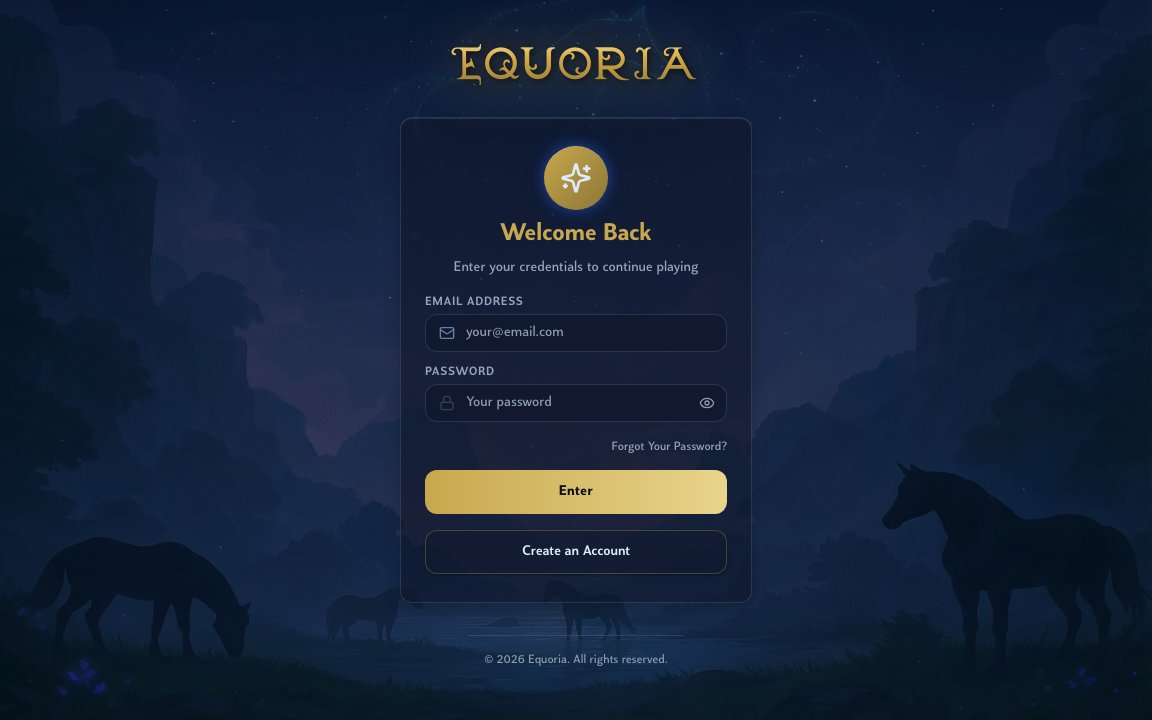
Scenario: LoginPage › AC-3: Form Submission › disables submit button while submission is in progress
Note: Fill valid form
Type "test@example.com" into the field labelled "Email Address" at x=576, y=332, box x1=425 y1=314 x2=727 y2=352
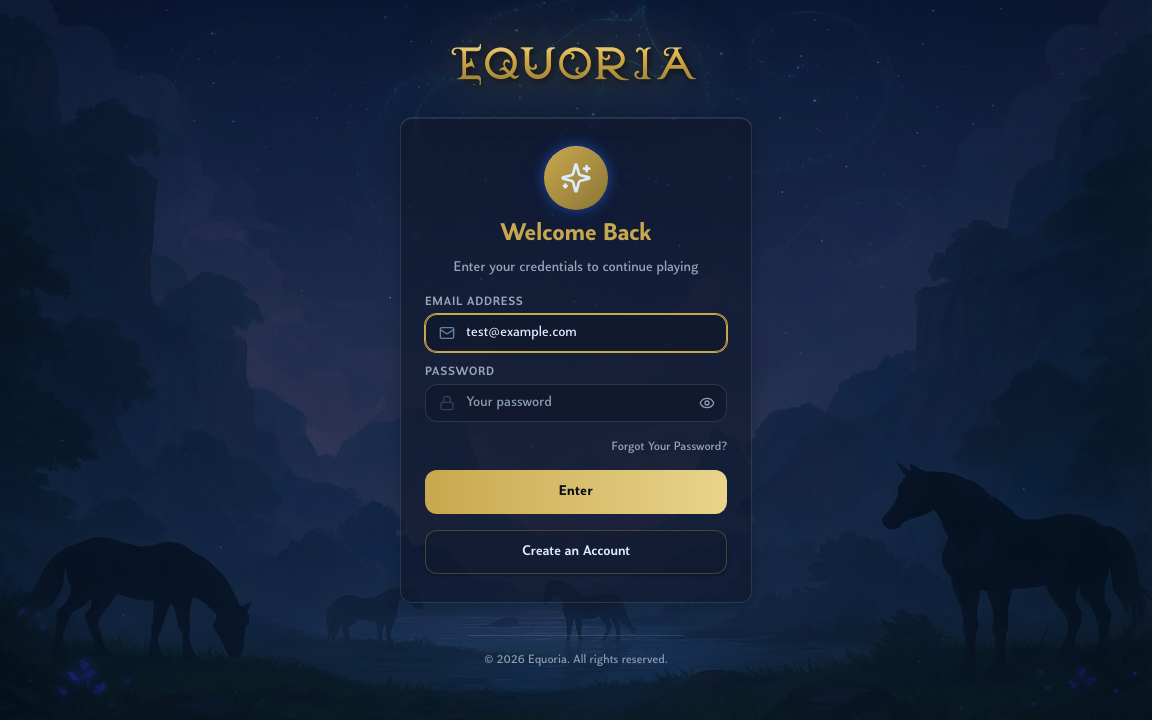
Type "password123" into the password field labelled "Password" at x=576, y=402, box x1=425 y1=384 x2=727 y2=422
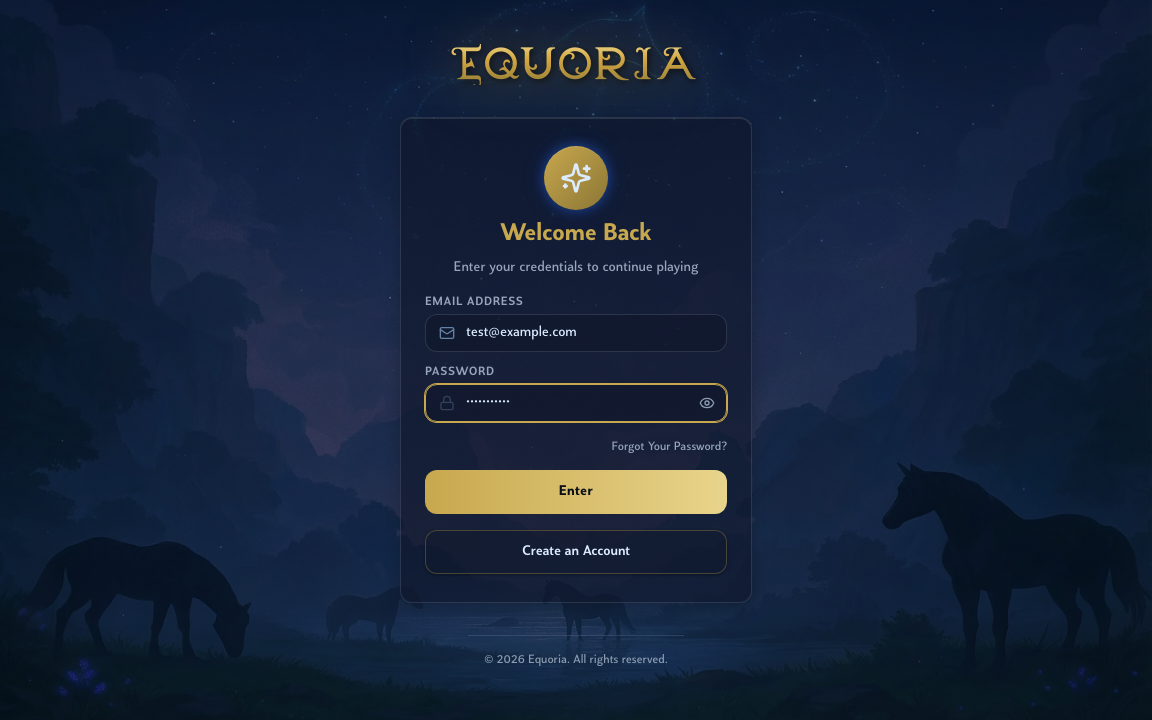
Click the button "Enter" at x=576, y=492, box x1=425 y1=470 x2=727 y2=514
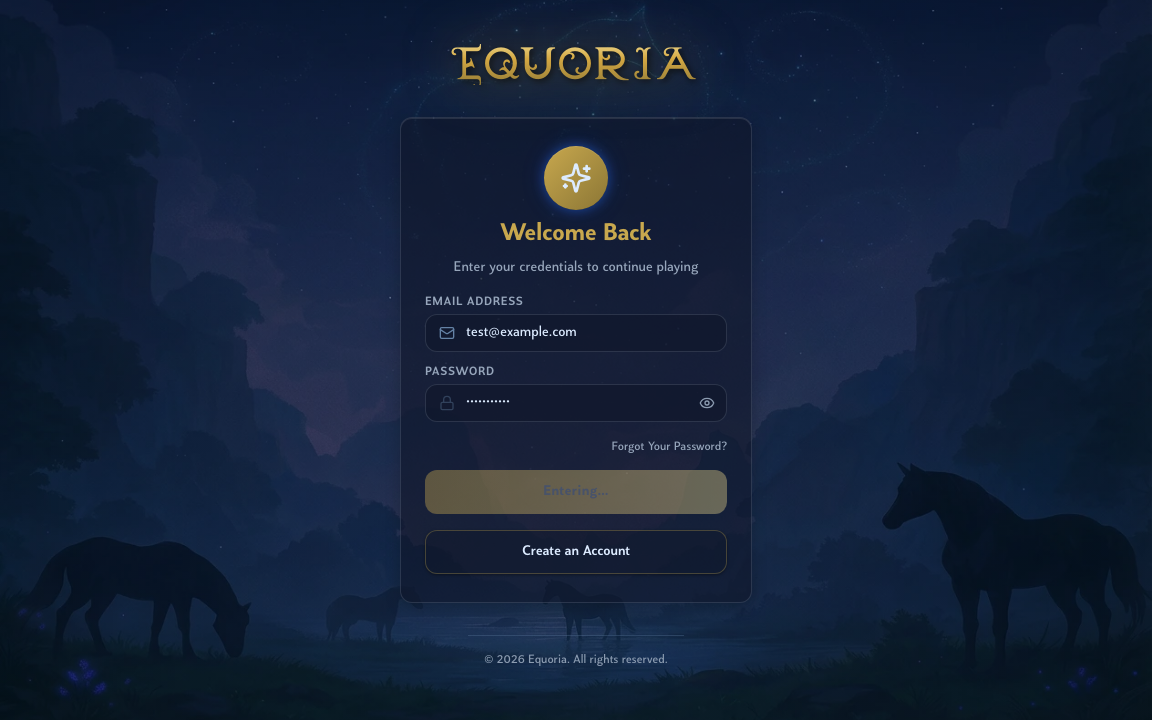
Result: the button "Entering…" is disabled at x1=425 y1=470 x2=727 y2=514
